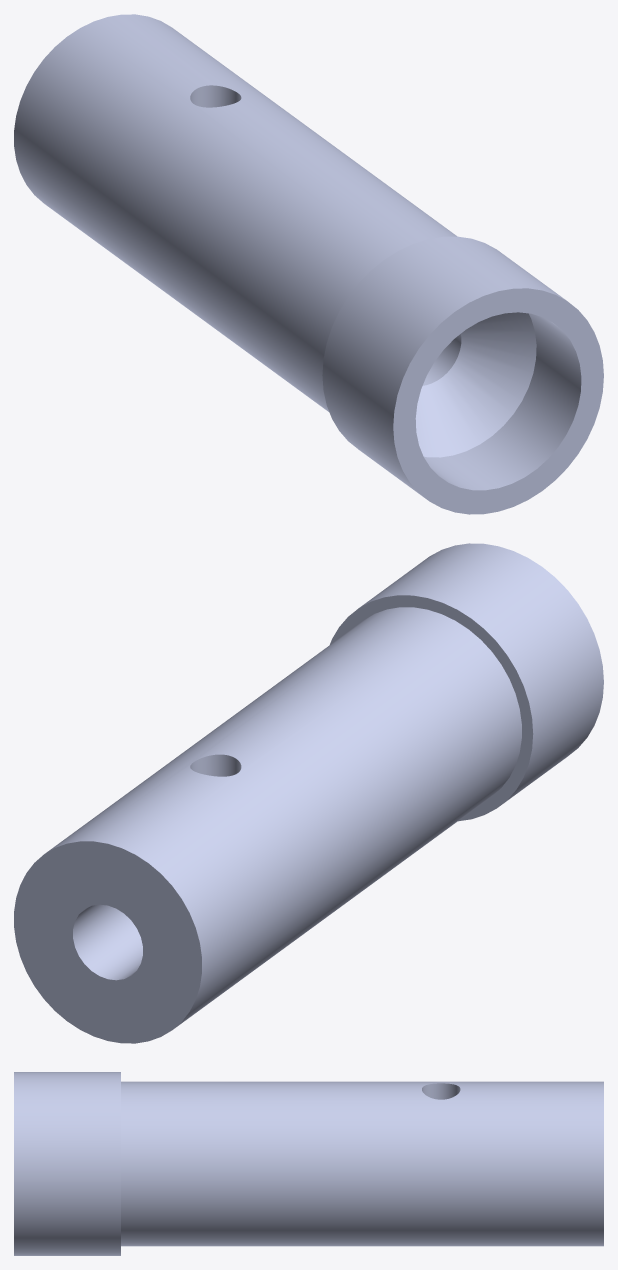
The model's file is UA_26EV_Gearbox__UA_26_Output_shaft_REV2_1.dae.
3 views of the same model, one above another, from view 1: azimuth 30°, elevation 25°; view 2: azimuth 150°, elevation 25°; view 3: azimuth 270°, elevation 25° (orthographic). The views are drawn at different scales.
Visible parts, largest first — view 1: node0; view 2: node0; view 3: node0.
Part boxes in pixels (box(x1,y1,x2,y2)): node0: box(14, 14, 603, 514); node0: box(14, 543, 603, 1043); node0: box(14, 1072, 603, 1255).
Size of the model in its own units: 0.019 by 0.019 by 0.061.
